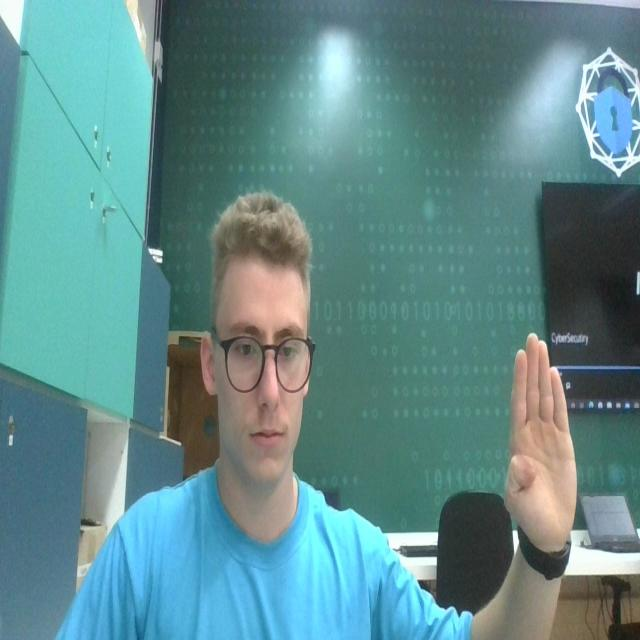B: (499, 324, 590, 554)
